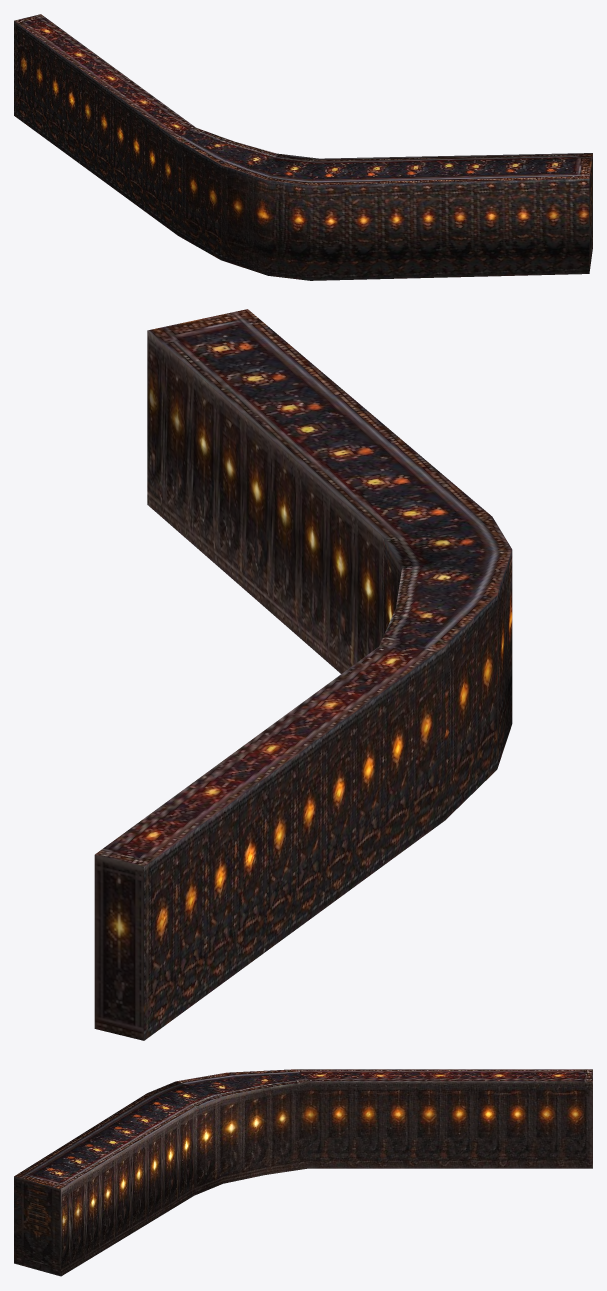
The model's file is ramp_pale_down_left_lvl_3.glb.
3 views of the same model, one above another, from view 1: azimuth 30°, elevation 25°; view 2: azimuth 150°, elevation 25°; view 3: azimuth 270°, elevation 25° (orthographic). The views are drawn at different scales.
Parts seen in each view (by area): view 1: Mesh_0.004; view 2: Mesh_0.004; view 3: Mesh_0.004.
Boxes of the visible parts, bbox=[...] form: Mesh_0.004: bbox=[14, 14, 592, 280]; Mesh_0.004: bbox=[94, 309, 512, 1040]; Mesh_0.004: bbox=[14, 1069, 592, 1276].
Size of the model in its own units: 0.135 by 0.0469 by 0.256.
1 material, 1 textured.
